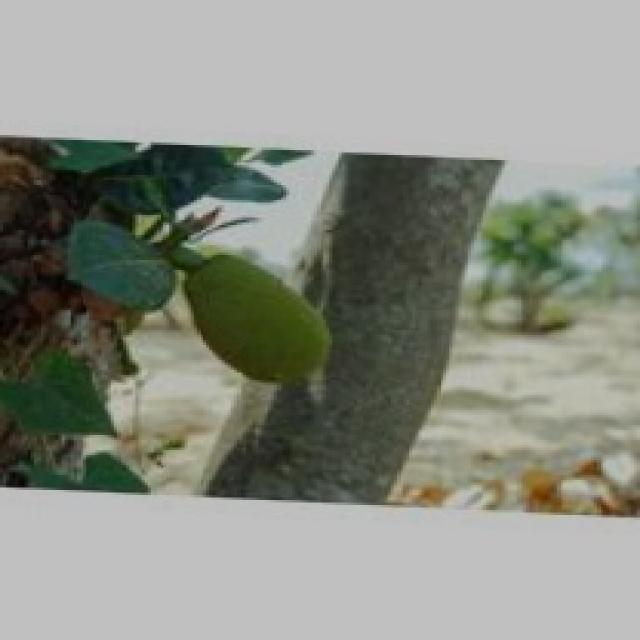Fruit: (166, 235, 354, 413)
